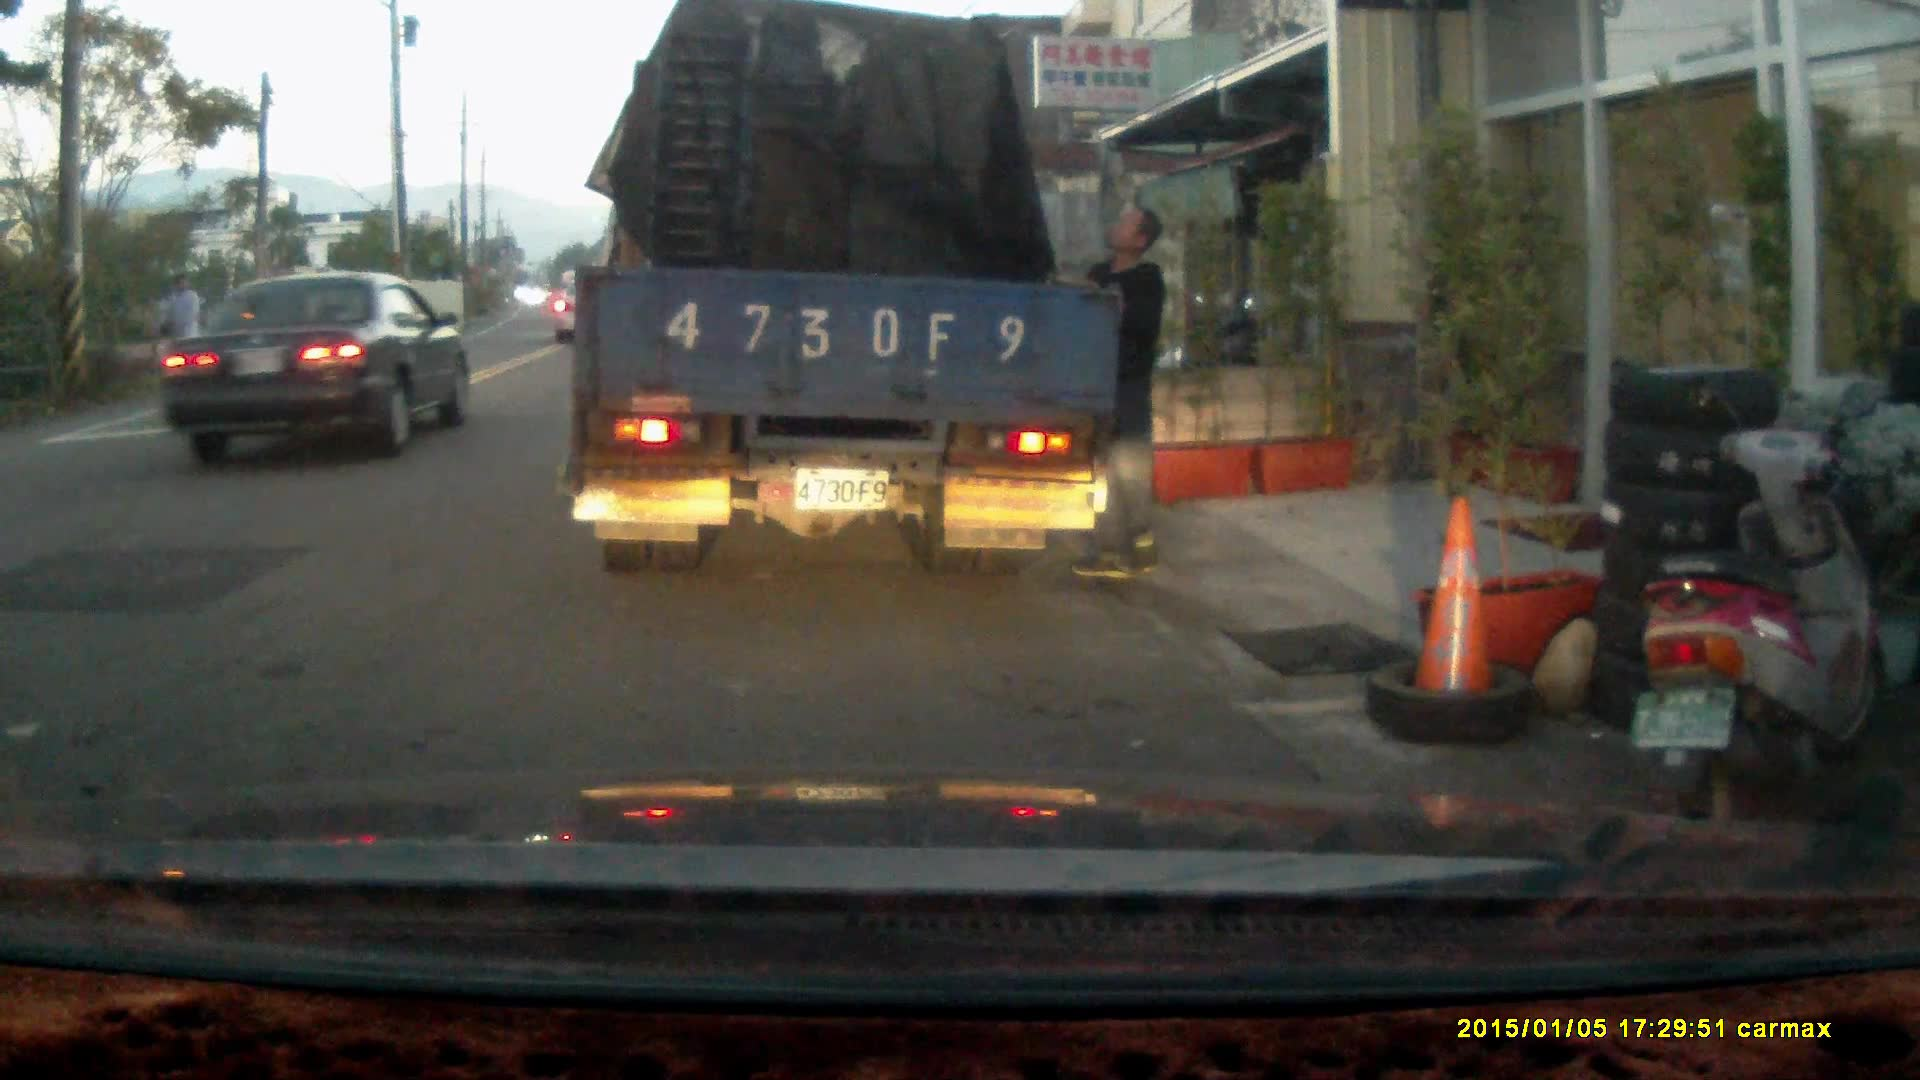pedestrian: (1055, 200, 1167, 581), (160, 270, 206, 397)
vehicle: (571, 23, 1110, 572), (151, 270, 469, 468)
